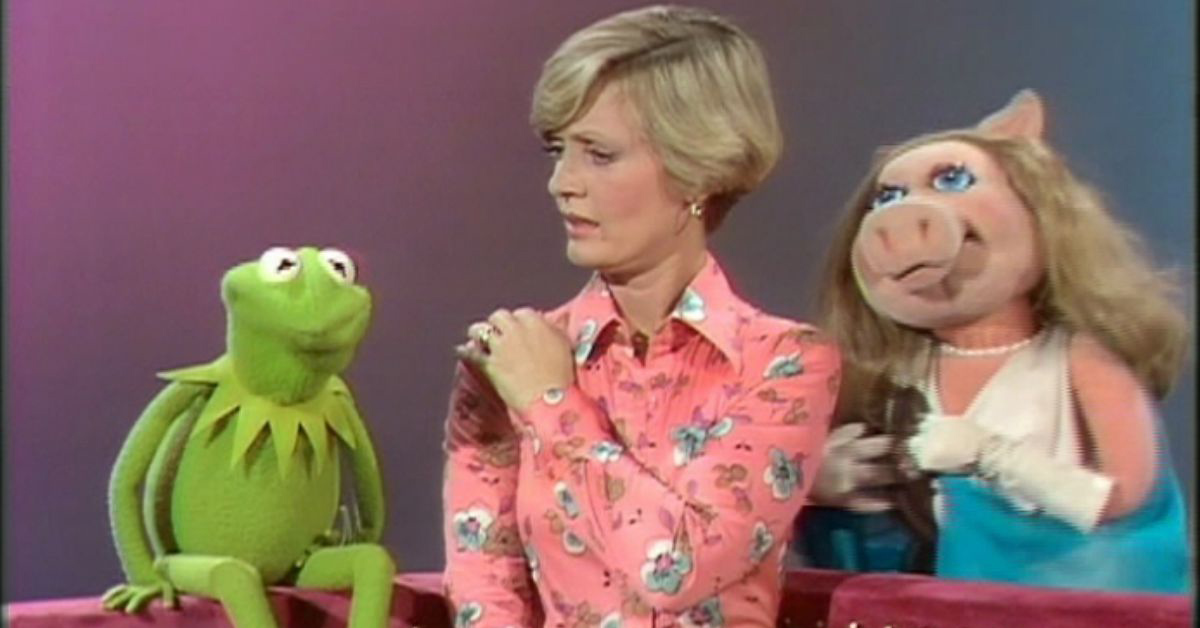kermit: (214, 239, 374, 417)
